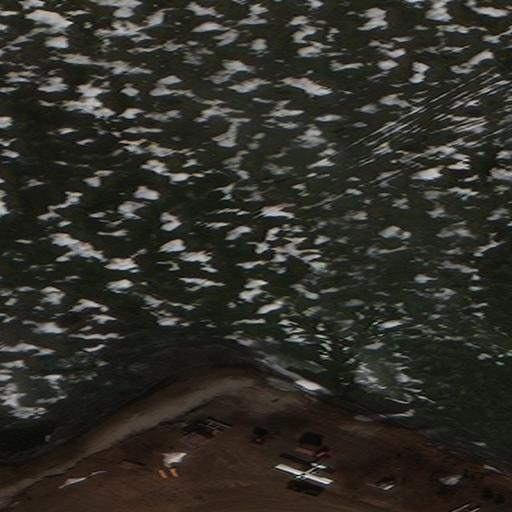Small Civil Transport: (273, 463, 328, 486)
